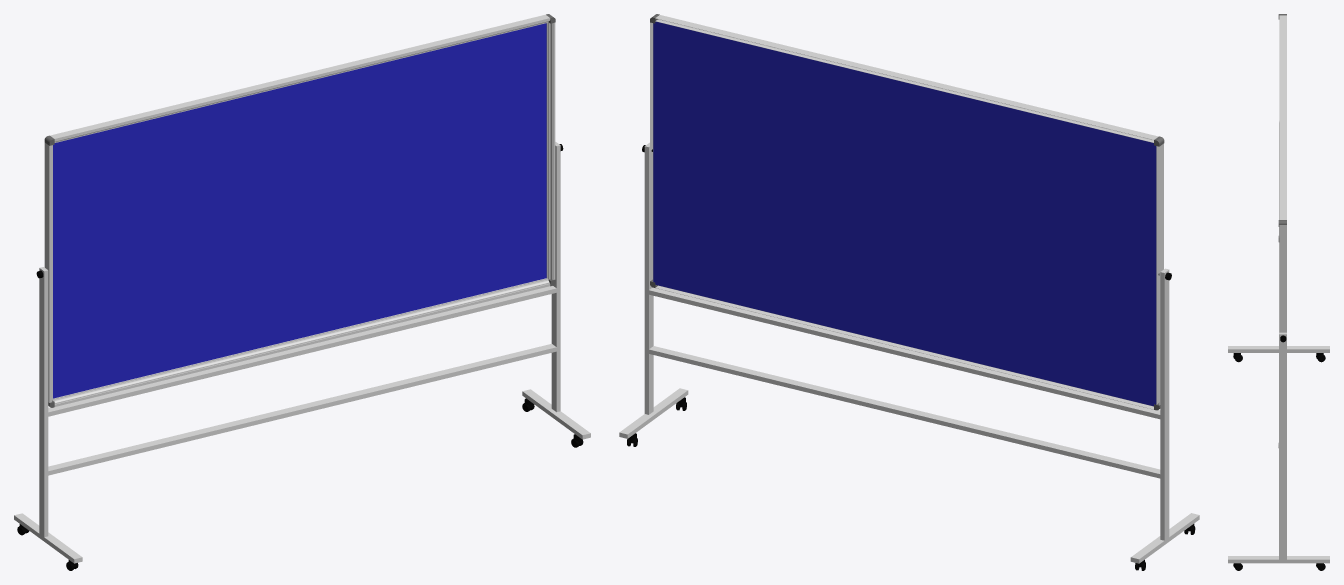
3 views of the same model, side by side, from view 1: azimuth 30°, elevation 25°; view 2: azimuth 150°, elevation 25°; view 3: azimuth 270°, elevation 25° (orthographic). The views are drawn at different scales.
Parts seen in each view (by area): view 1: group_2, group_12, group_4, group_3, group_11, group_9, group_1, group_10, group_0, group_14, group_13; view 2: group_2, group_12, group_11, group_3, group_9, group_10, group_4, group_0, group_1, group_14, group_13; view 3: group_10, group_3, group_1, group_14, group_13.
Boxes of the visible parts, left/top/right/bottom form: group_2: left=53, top=23, right=546, bottom=398; group_12: left=48, top=343, right=556, bottom=475; group_4: left=52, top=278, right=550, bottom=406; group_3: left=50, top=14, right=550, bottom=142; group_11: left=48, top=286, right=556, bottom=416; group_9: left=39, top=267, right=48, bottom=537; group_1: left=546, top=22, right=555, bottom=279; group_10: left=551, top=142, right=560, bottom=412; group_0: left=44, top=142, right=52, bottom=402; group_14: left=522, top=389, right=590, bottom=439; group_13: left=14, top=513, right=82, bottom=563; group_2: left=653, top=21, right=1156, bottom=406; group_12: left=649, top=346, right=1160, bottom=478; group_11: left=649, top=287, right=1160, bottom=419; group_3: left=655, top=15, right=1158, bottom=142; group_9: left=1160, top=268, right=1169, bottom=540; group_10: left=644, top=142, right=653, bottom=414; group_4: left=655, top=285, right=1153, bottom=409; group_0: left=1156, top=143, right=1163, bottom=405; group_1: left=650, top=22, right=653, bottom=281; group_14: left=619, top=388, right=688, bottom=438; group_13: left=1130, top=513, right=1199, bottom=563; group_10: left=1279, top=332, right=1286, bottom=559; group_3: left=1279, top=15, right=1286, bottom=219; group_1: left=1279, top=225, right=1286, bottom=332; group_14: left=1228, top=556, right=1329, bottom=563; group_13: left=1228, top=346, right=1329, bottom=352.
Bounding box in the file's own units: 98.82 × 19.69 × 74.3.
